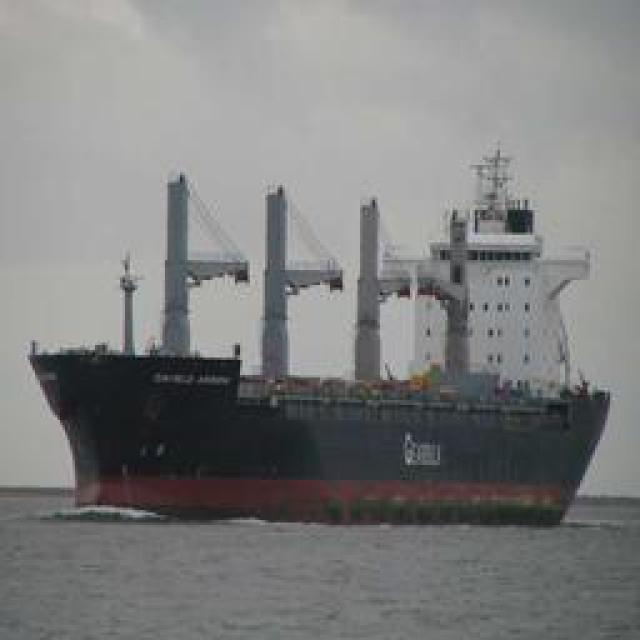Ship: (17, 360, 625, 530)
